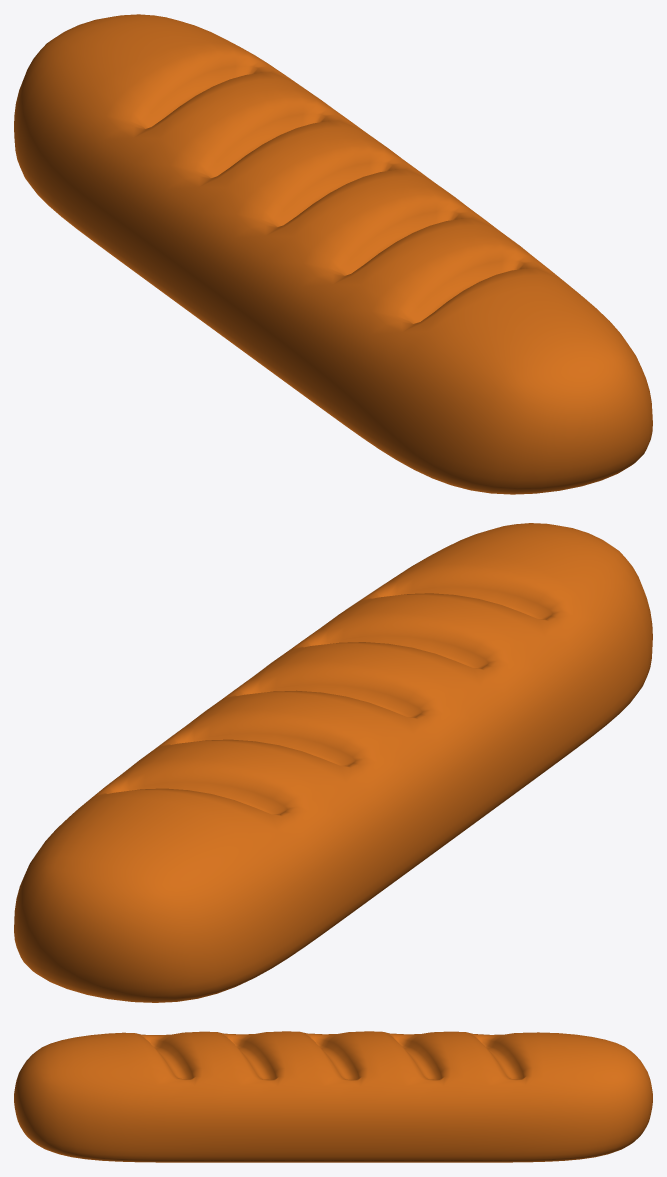
File: Bread2.fbx
3 views of the same model, one above another, from view 1: azimuth 30°, elevation 25°; view 2: azimuth 150°, elevation 25°; view 3: azimuth 270°, elevation 25° (orthographic). The views are drawn at different scales.
Parts seen in each view (by area): view 1: Bread2; view 2: Bread2; view 3: Bread2.
Boxes of the visible parts, x1=… form: Bread2: x1=14, y1=14, x2=652, y2=494; Bread2: x1=14, y1=523, x2=652, y2=1002; Bread2: x1=14, y1=1031, x2=652, y2=1162.
Bounding box in the file's own units: 0.9436 × 3.46 × 0.5252.
